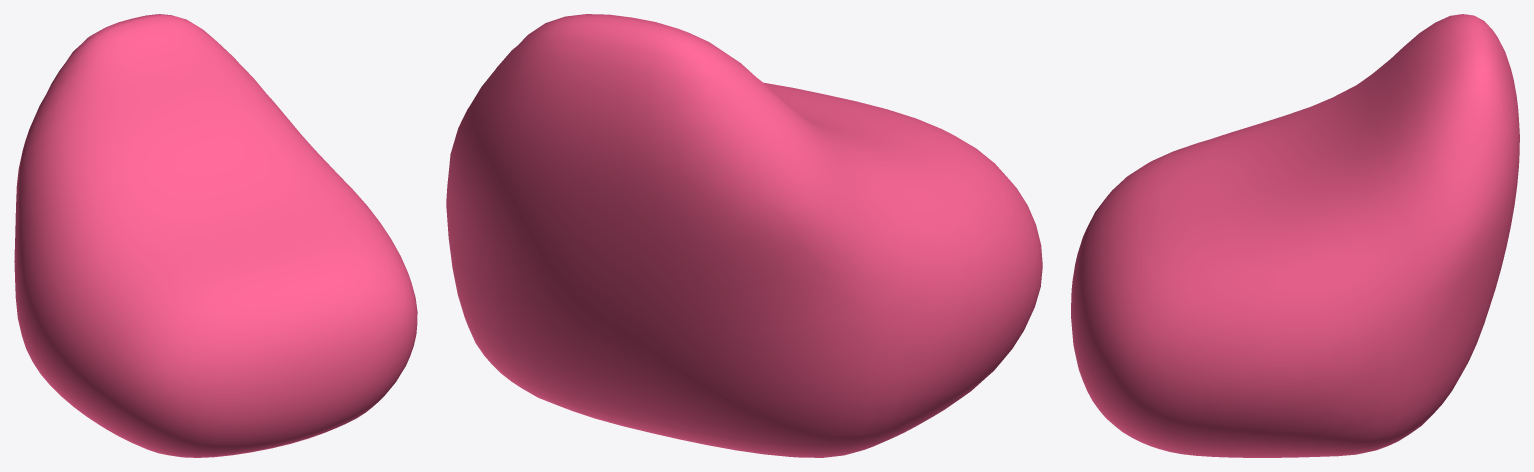
File: Store_13_Pouf_1.glb
3 renders of one model, left to right at view 1: azimuth 30°, elevation 25°; view 2: azimuth 150°, elevation 25°; view 3: azimuth 270°, elevation 25°, orthographic. The views are drawn at different scales.
Parts seen in each view (by area): view 1: Store_13_Pouf_1; view 2: Store_13_Pouf_1; view 3: Store_13_Pouf_1.
Part boxes in pixels (bbox=[...]): Store_13_Pouf_1: bbox=[14, 14, 417, 457]; Store_13_Pouf_1: bbox=[446, 14, 1042, 457]; Store_13_Pouf_1: bbox=[1071, 14, 1519, 457].
Bounding box in the file's own units: 1.21 × 1.07 × 1.17.
1 material, 1 textured.
